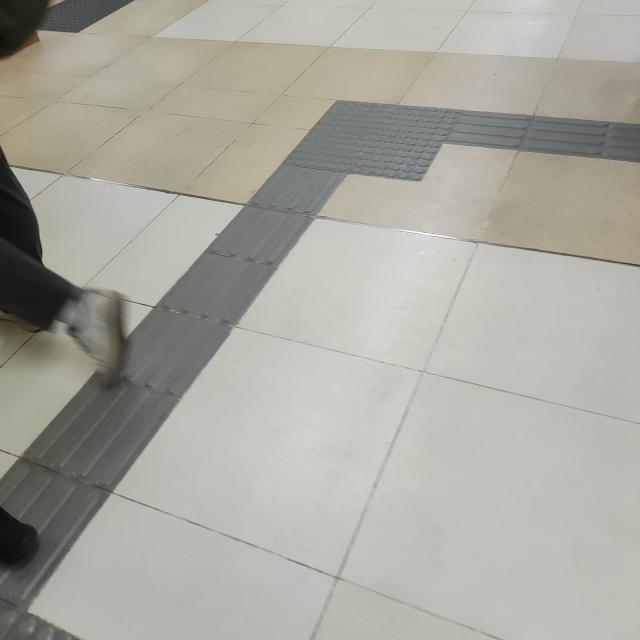kanan: (247, 67, 606, 218)
